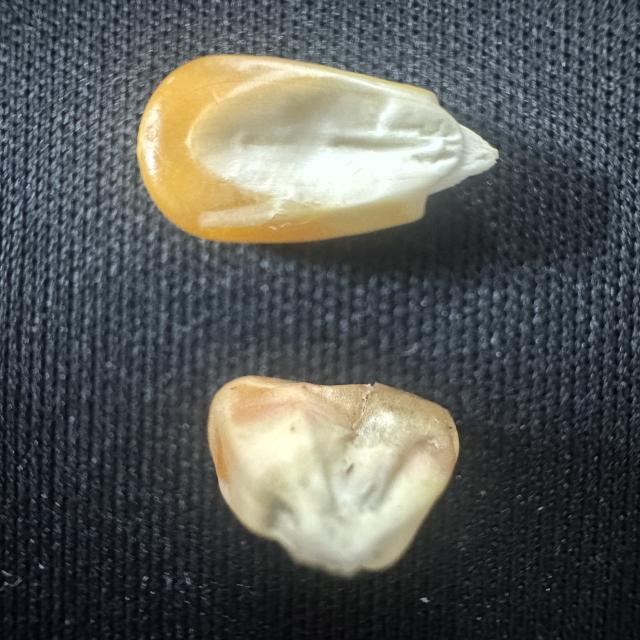Bad-Seed: (191, 358, 473, 594)
Good-Seed: (124, 46, 510, 264)
